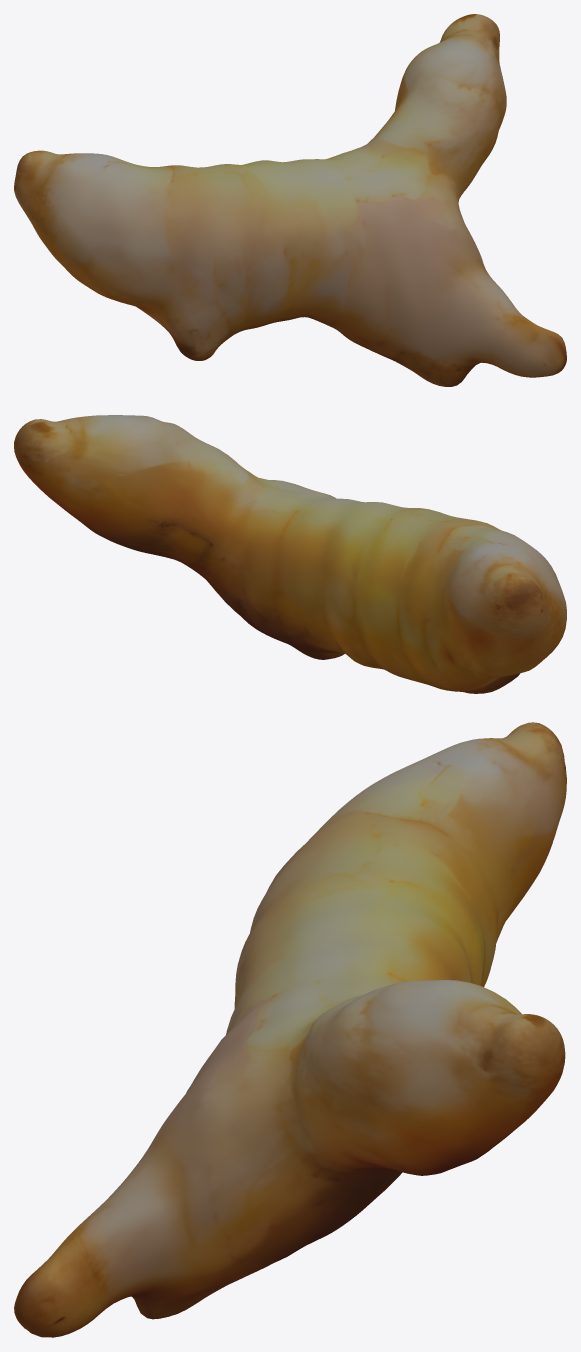
Rendered from turmeric_bulb_medium_poly.glb.
3 renders of one model, top to bottom at view 1: azimuth 30°, elevation 25°; view 2: azimuth 150°, elevation 25°; view 3: azimuth 270°, elevation 25°, orthographic. The views are drawn at different scales.
Visible parts, largest first — view 1: Object_2; view 2: Object_2; view 3: Object_2.
Part boxes in pixels (x1,y1,x2,y2): Object_2: [14, 14, 566, 386]; Object_2: [14, 415, 566, 693]; Object_2: [14, 722, 566, 1337].
Size of the model in its own units: 1.89 by 0.946 by 1.16.
Materials: 1 (1 with a texture image).
